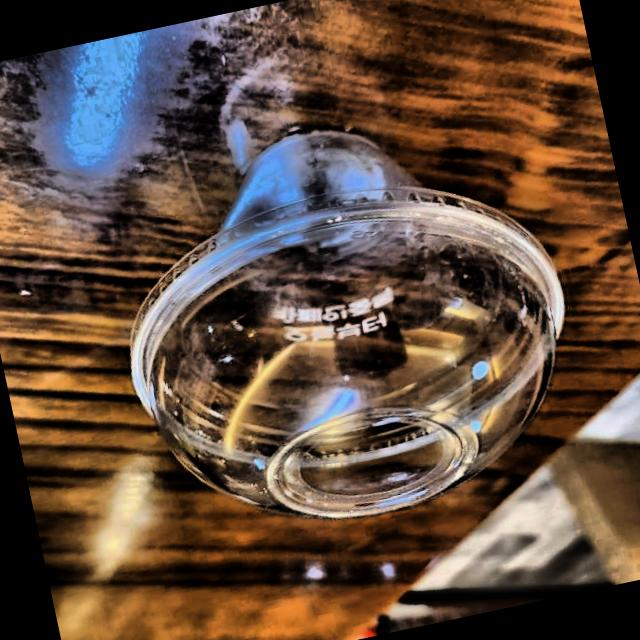plastic cup: (29, 29, 614, 582)
